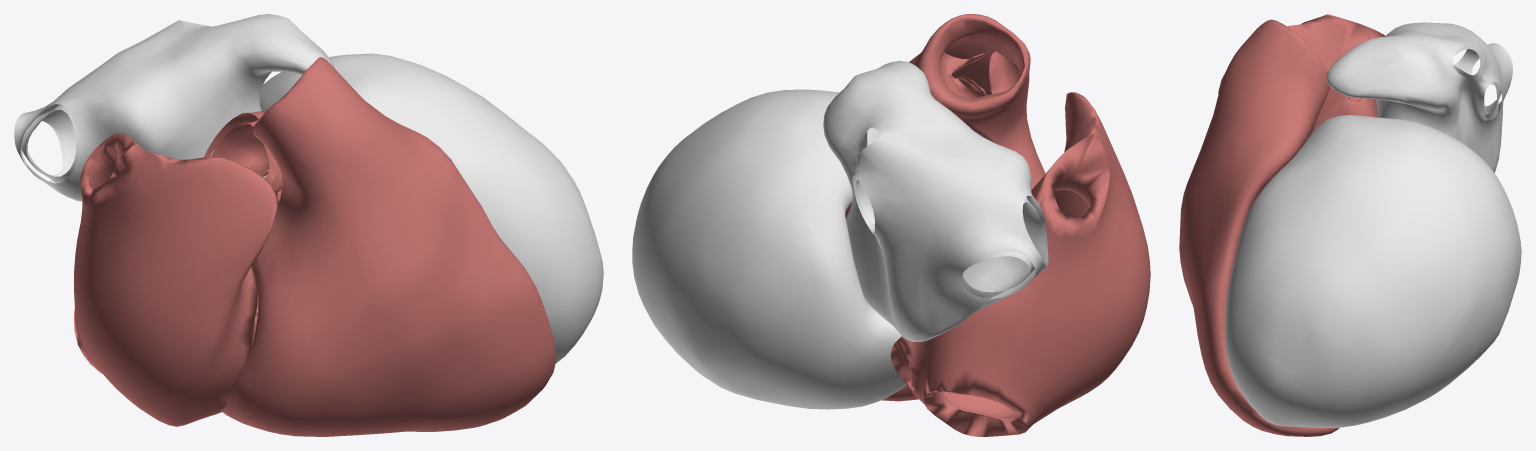
The model's file is vh_f_heart-40.fbx.
3 views of the same model, side by side, from view 1: azimuth 30°, elevation 25°; view 2: azimuth 150°, elevation 25°; view 3: azimuth 270°, elevation 25° (orthographic). The views are drawn at different scales.
Visible parts, largest first — view 1: VH_F_right_ventricle, VH_F_right_cardiac_atrium, VH_F_left_ventricle, VH_F_left_cardiac_atrium, VH_F_aortic_valve; view 2: VH_F_left_ventricle, VH_F_left_cardiac_atrium, VH_F_right_cardiac_atrium, VH_F_right_ventricle, VH_F_pulmonary_valve; view 3: VH_F_left_ventricle, VH_F_right_ventricle, VH_F_left_cardiac_atrium, VH_F_right_cardiac_atrium, VH_F_aortic_valve.
Part boxes in pixels (left/top/right/bottom): VH_F_right_ventricle: left=222, top=57, right=556, bottom=436; VH_F_right_cardiac_atrium: left=74, top=133, right=278, bottom=426; VH_F_left_ventricle: left=259, top=53, right=603, bottom=363; VH_F_left_cardiac_atrium: left=14, top=14, right=335, bottom=201; VH_F_aortic_valve: left=204, top=111, right=282, bottom=202; VH_F_left_ventricle: left=632, top=89, right=906, bottom=409; VH_F_left_cardiac_atrium: left=823, top=60, right=1048, bottom=341; VH_F_right_cardiac_atrium: left=890, top=92, right=1150, bottom=436; VH_F_right_ventricle: left=882, top=14, right=1045, bottom=401; VH_F_pulmonary_valve: left=940, top=50, right=1022, bottom=108; VH_F_left_ventricle: left=1224, top=115, right=1521, bottom=427; VH_F_right_ventricle: left=1179, top=19, right=1339, bottom=436; VH_F_left_cardiac_atrium: left=1326, top=22, right=1512, bottom=172; VH_F_right_cardiac_atrium: left=1218, top=14, right=1385, bottom=101; VH_F_aortic_valve: left=1312, top=87, right=1377, bottom=131.
Size of the model in its own units: 14.25 by 11 by 10.15.
